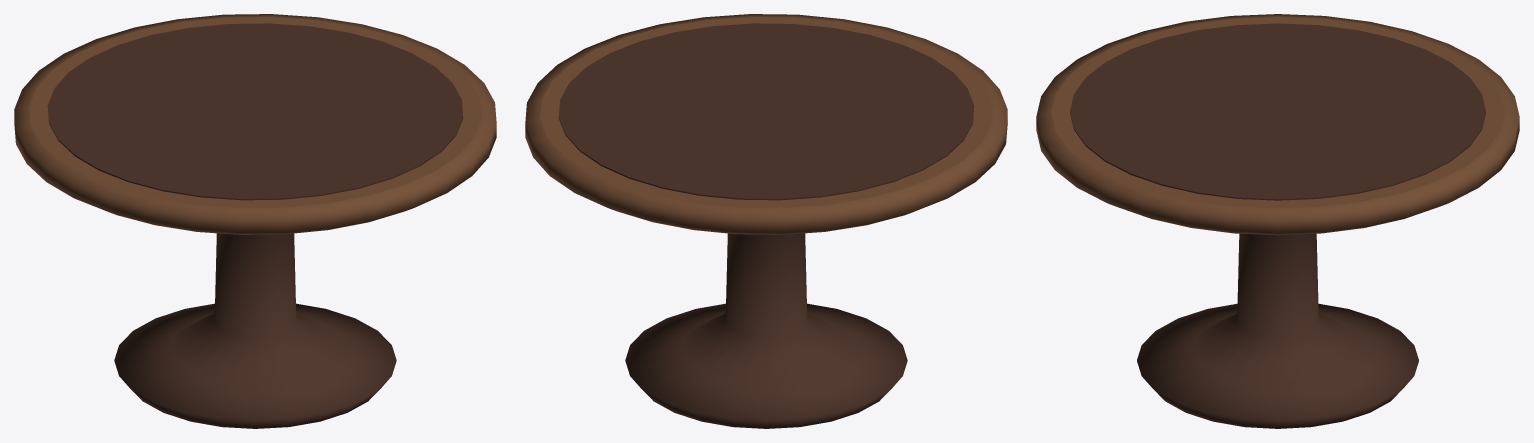
File: rpg-mansion-round-table-01.glb
The picture shows the model from 3 angles, left to right: view 1: azimuth 30°, elevation 25°; view 2: azimuth 150°, elevation 25°; view 3: azimuth 270°, elevation 25°; orthographic projection.
Parts seen in each view (by area): view 1: rpg-mansion-round-table-01; view 2: rpg-mansion-round-table-01; view 3: rpg-mansion-round-table-01.
Boxes of the visible parts, bbox=[...] form: rpg-mansion-round-table-01: bbox=[14, 14, 496, 428]; rpg-mansion-round-table-01: bbox=[525, 14, 1007, 428]; rpg-mansion-round-table-01: bbox=[1036, 14, 1519, 428].
Size of the model in its own units: 1.3 by 0.78 by 1.3.
